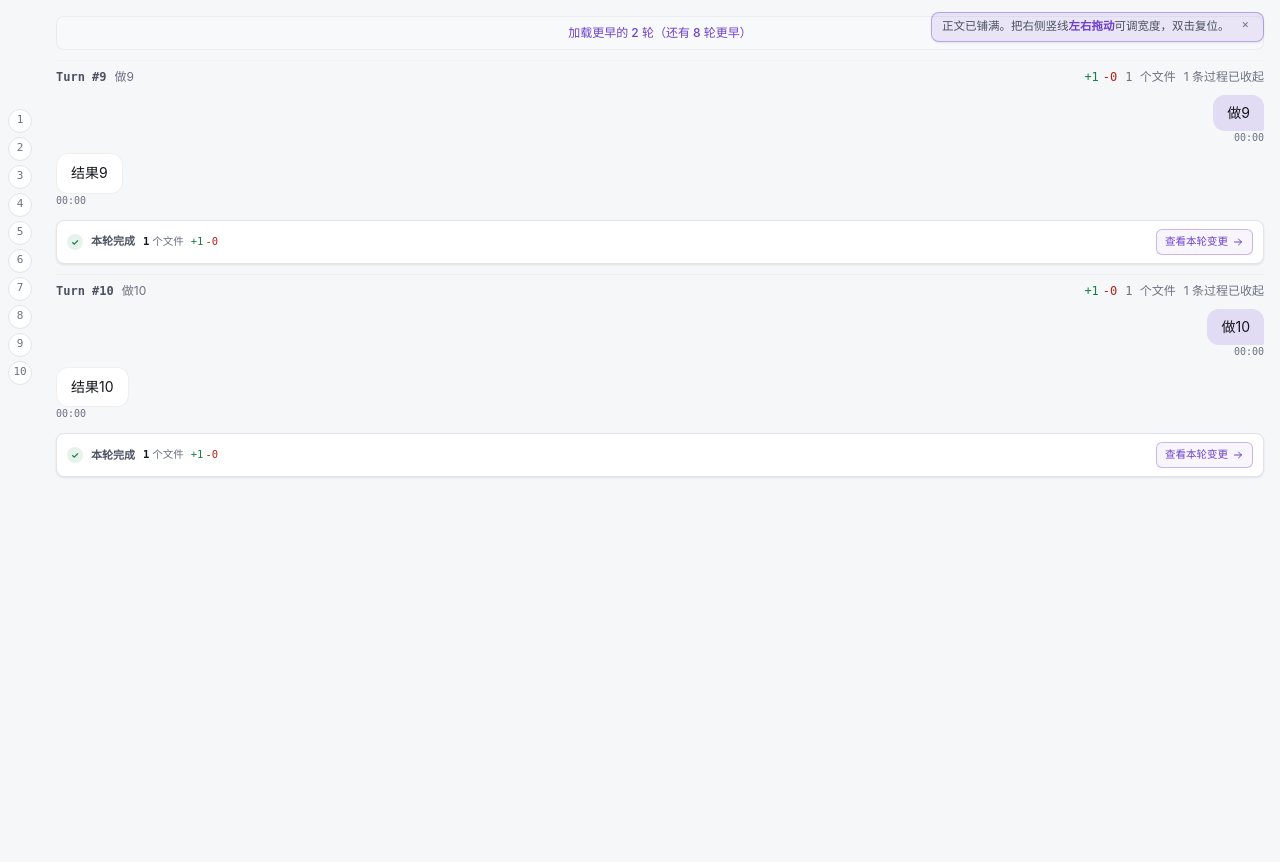
it: 需求 2：只挂载最近两个 Turn › 连点到最前：最后一步只补剩下的轮，补完按钮消失
The width and height of the screenshot is (1280, 862).
Click the button with test id "load-older-turns" at (660, 33), box [56,16,1264,50]
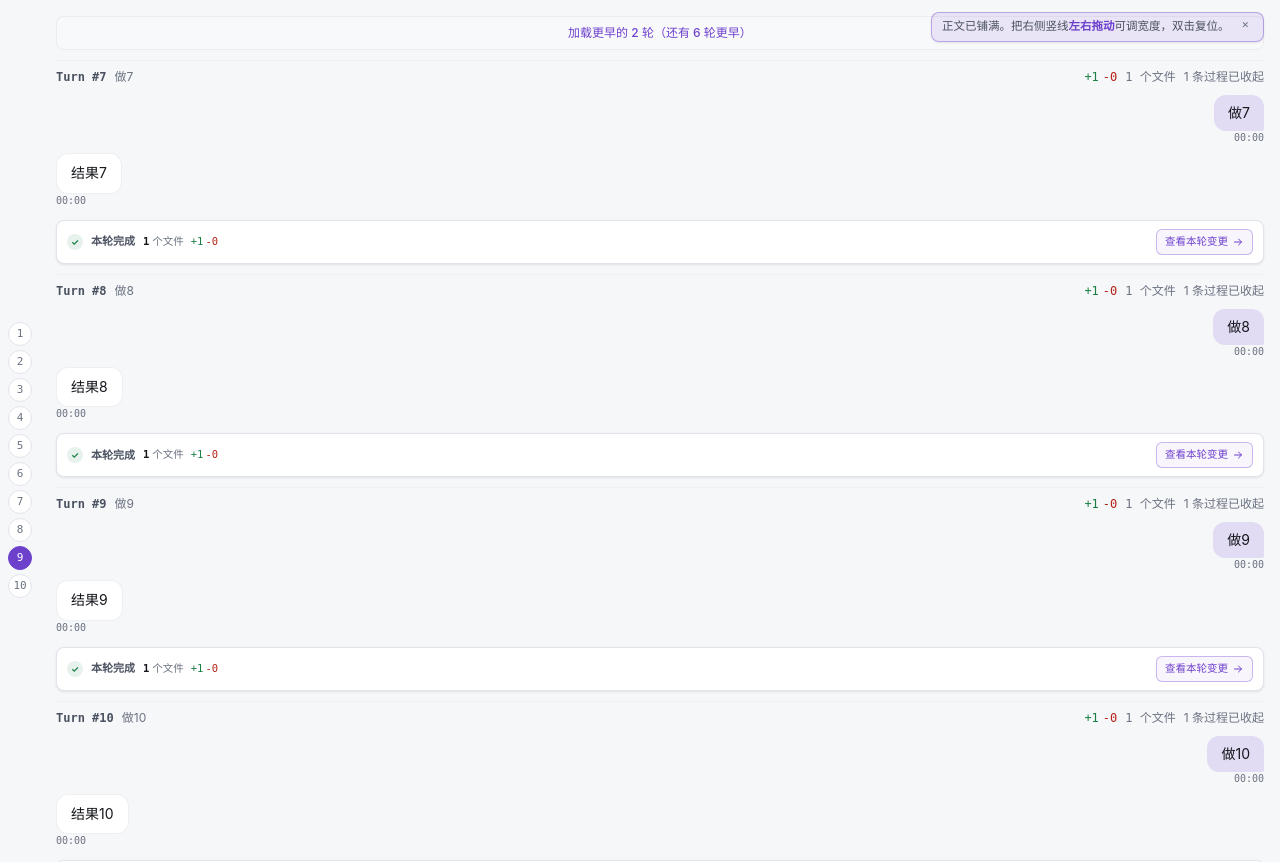
Click the button with test id "load-older-turns" at (660, 33), box [56,16,1264,50]
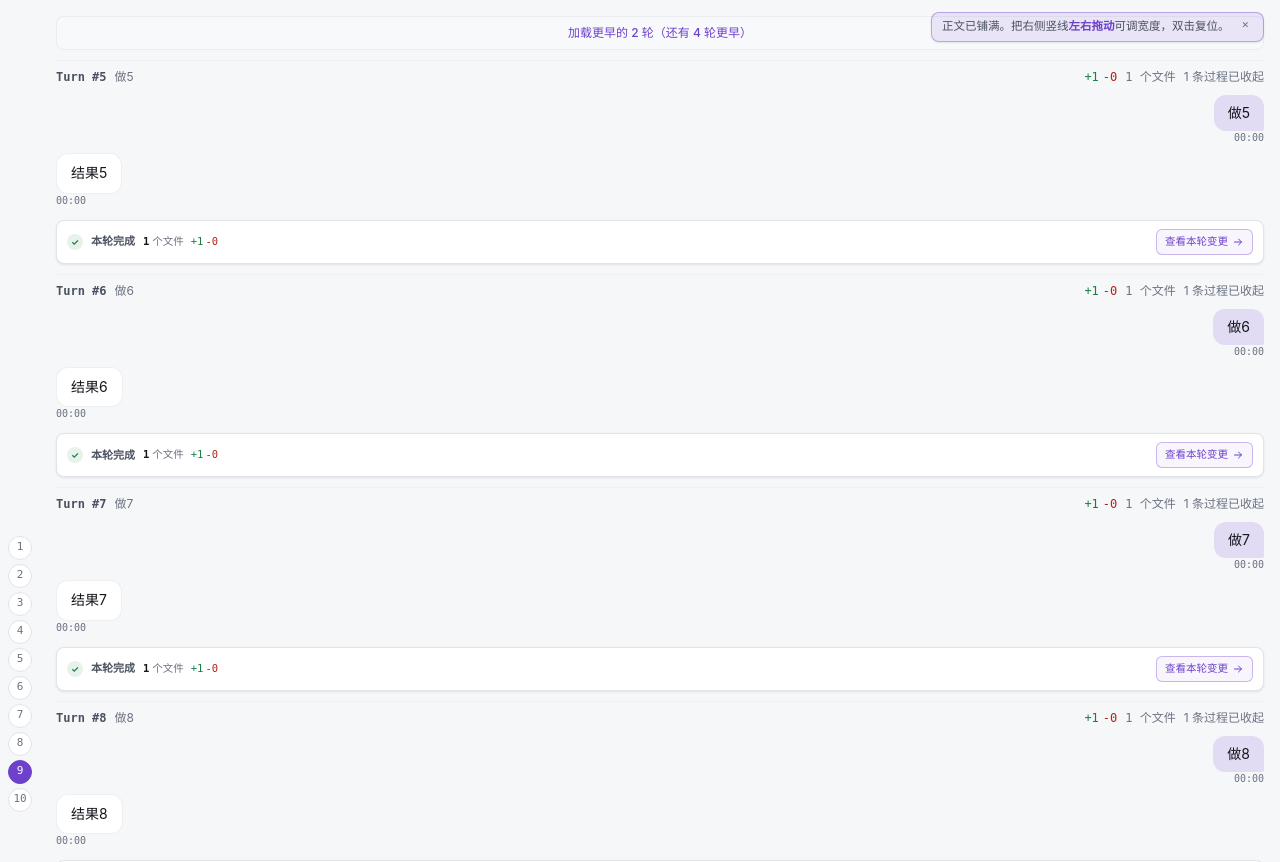
Click the button with test id "load-older-turns" at (660, 33), box [56,16,1264,50]
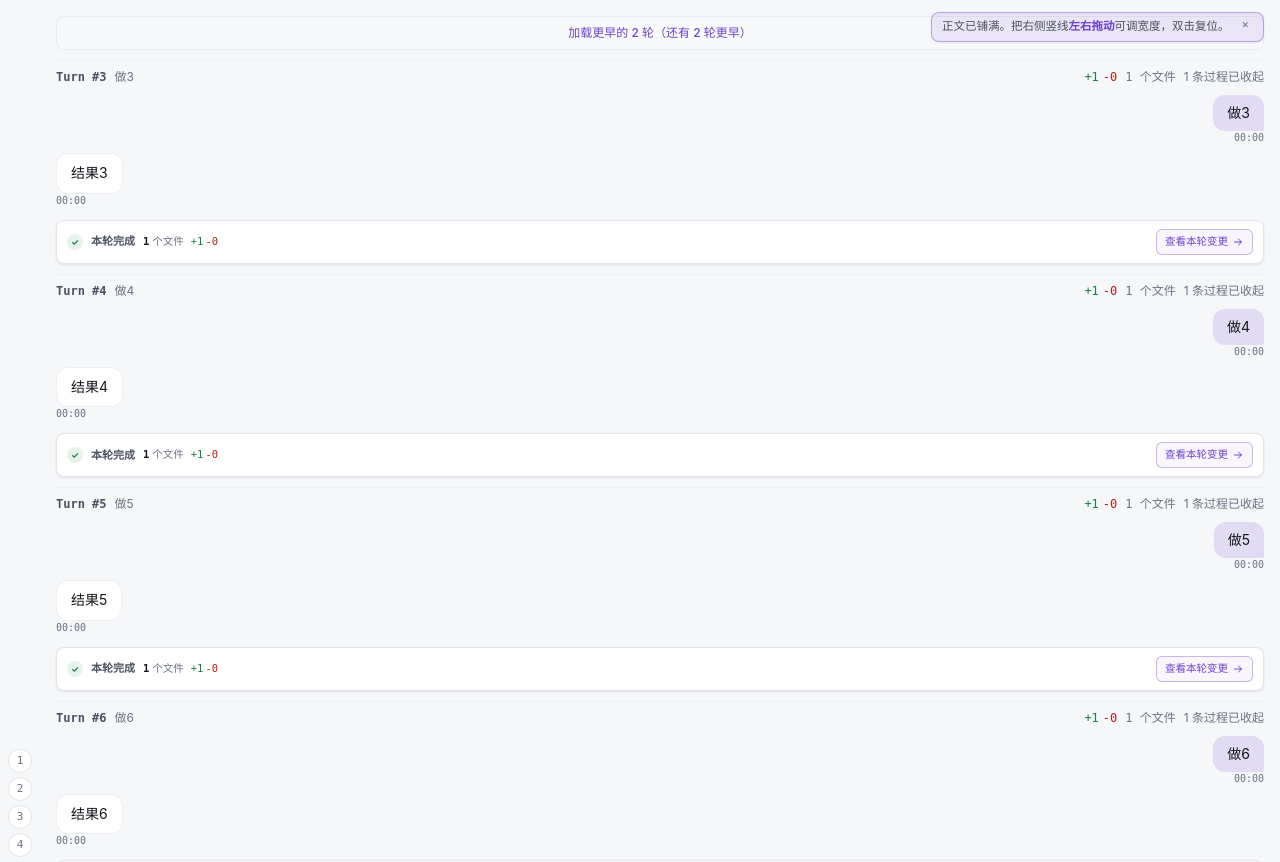
Click the button with test id "load-older-turns" at (660, 33), box [56,16,1264,50]
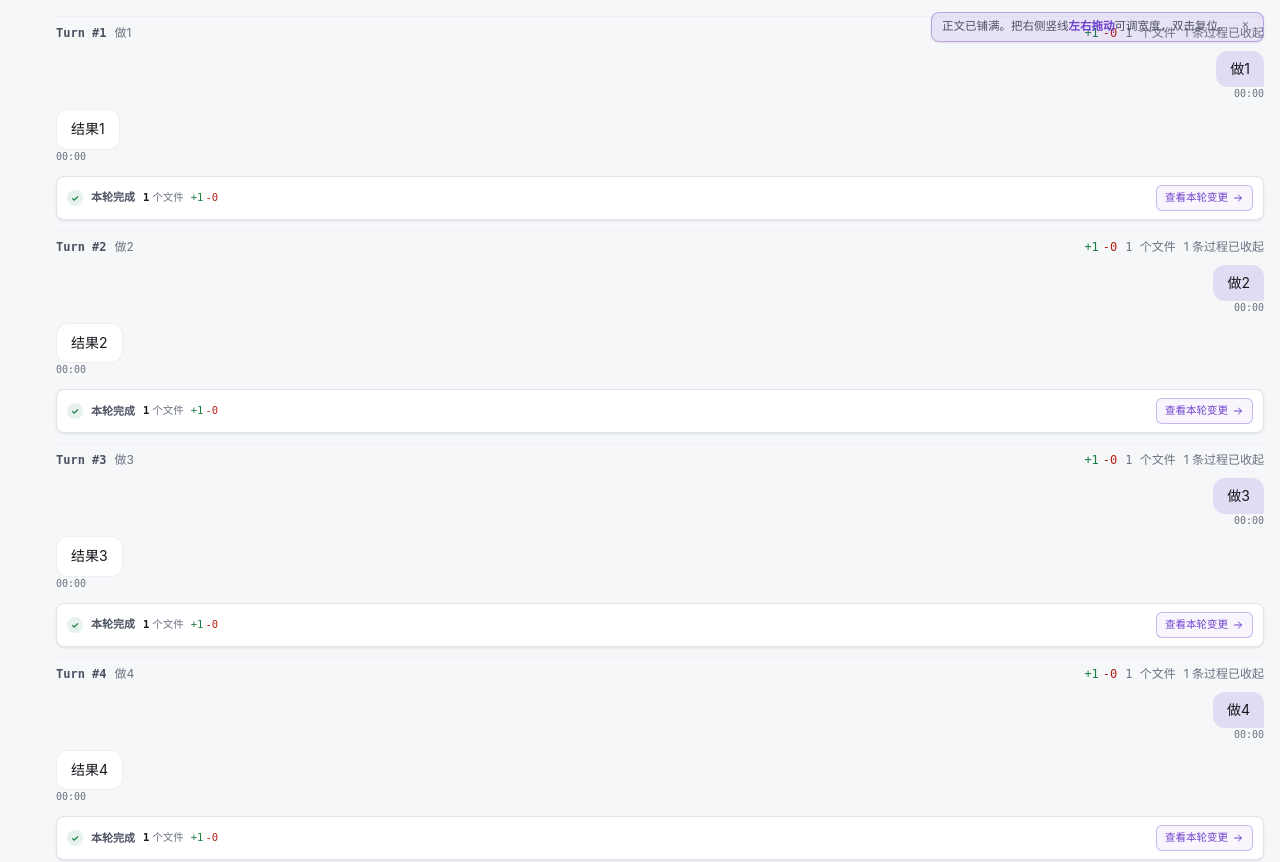
Now the button with test id "load-older-turns" is gone
